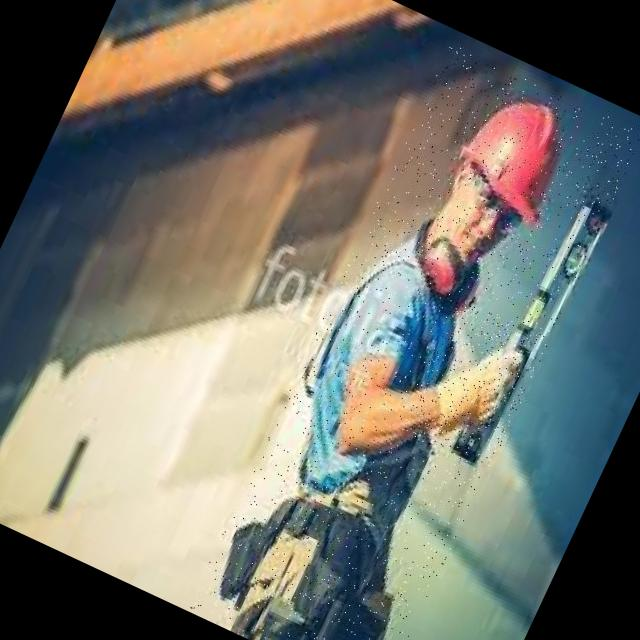hard_hat: (436, 72, 590, 235)
vehicle: (186, 43, 640, 640)
